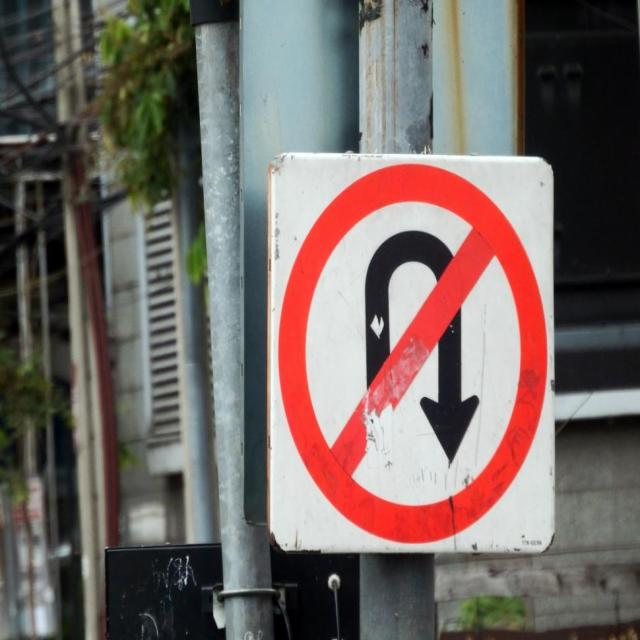no u turn: (272, 160, 551, 550)
